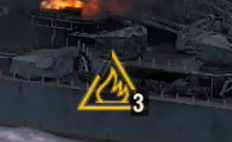3fire: (73, 76, 150, 118)
